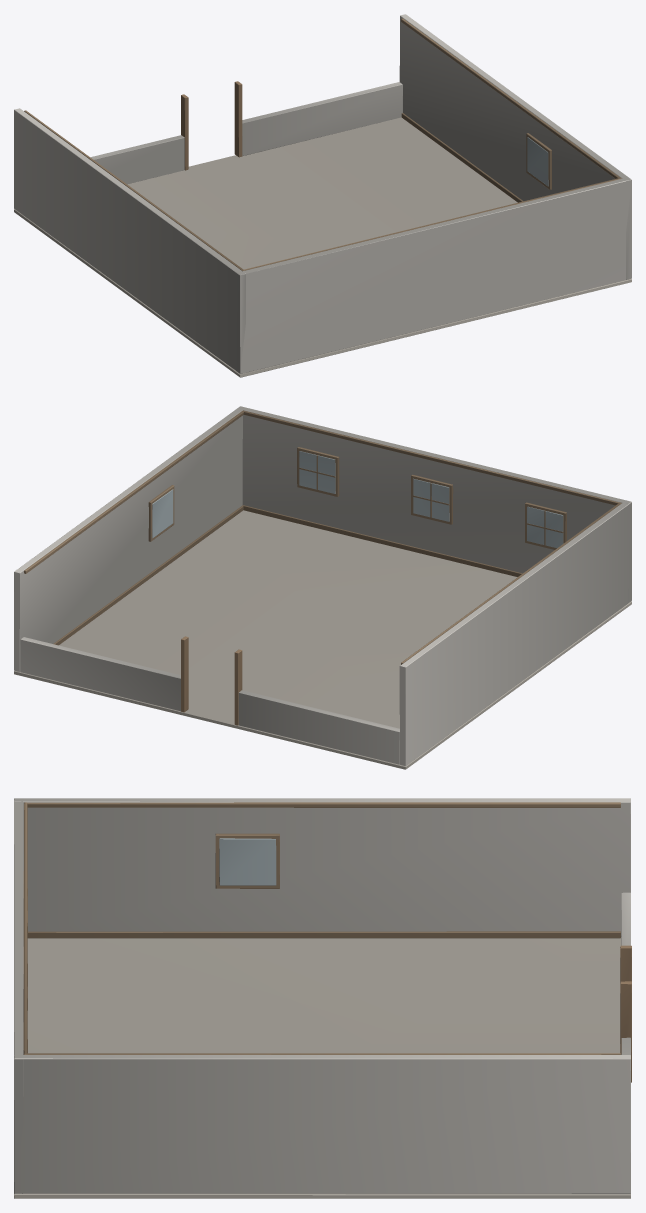
Rendered from home_room__base_low.glb.
The picture shows the model from 3 angles, top to bottom: view 1: azimuth 30°, elevation 25°; view 2: azimuth 150°, elevation 25°; view 3: azimuth 270°, elevation 25°; orthographic projection. The views are drawn at different scales.
Bounding box in the file's own units: 12.4 × 3.11 × 12.41.
